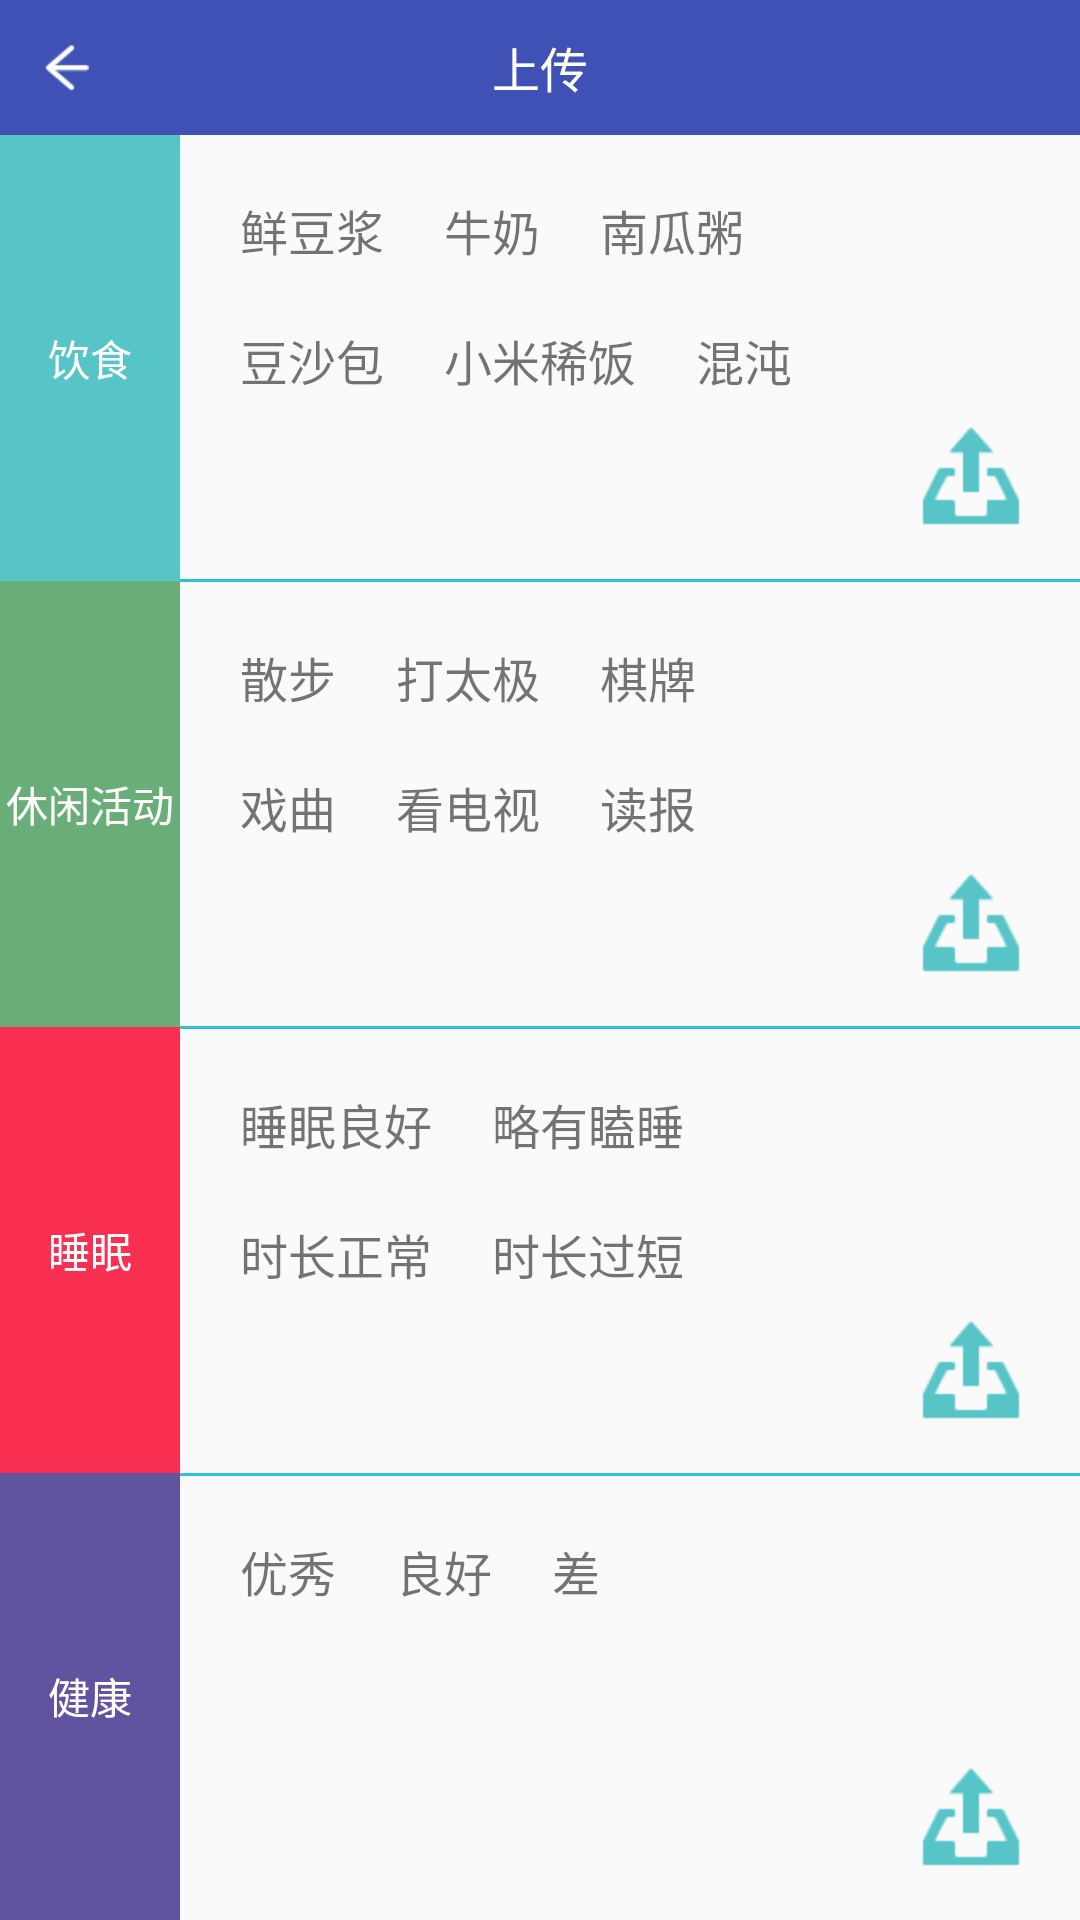

Icons on this 1080x1920 Android screen, each with its box as (left=x1, top=y1, right=x2, bottom=y2):
updatefood: (left=922, top=427, right=1020, bottom=525), (left=922, top=874, right=1020, bottom=972), (left=922, top=1321, right=1020, bottom=1419), (left=922, top=1768, right=1020, bottom=1866)
